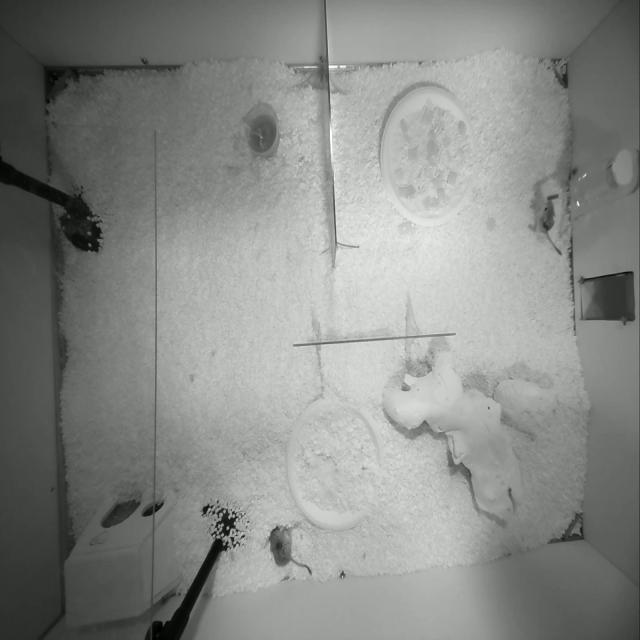pup_fluffy: (270, 526, 312, 574)
pup_v_stripe: (535, 198, 561, 254)
